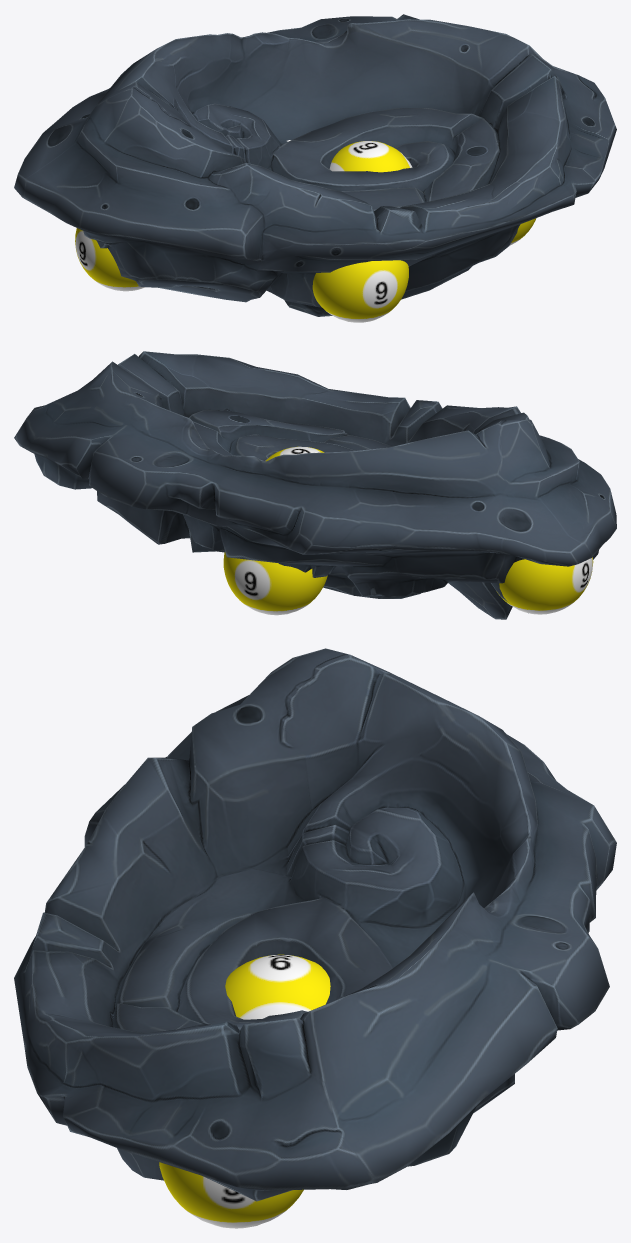
File: ast9.fbx
The picture shows the model from 3 angles, top to bottom: view 1: azimuth 30°, elevation 25°; view 2: azimuth 150°, elevation 25°; view 3: azimuth 270°, elevation 25°; orthographic projection. The views are drawn at different scales.
Visible parts, largest first — view 1: node_id140, pbb_cue.030, pbb_cue.064, pbb_cue.063; view 2: node_id140, pbb_cue.061, pbb_cue.063; view 3: node_id140, pbb_cue.064, pbb_cue.062.
Part boxes in pixels (box(x1,y1,x2,y2)): node_id140: box(14, 14, 616, 316); pbb_cue.030: box(312, 260, 408, 322); pbb_cue.064: box(329, 141, 412, 172); pbb_cue.063: box(75, 228, 145, 291); node_id140: box(14, 351, 616, 619); pbb_cue.061: box(223, 552, 327, 615); pbb_cue.063: box(496, 557, 593, 614); node_id140: box(14, 648, 616, 1201); pbb_cue.064: box(225, 954, 330, 1019); pbb_cue.062: box(159, 1162, 303, 1228).
Size of the model in its own units: 99 by 37.74 by 59.65.
Materials: 2 (2 with a texture image).
